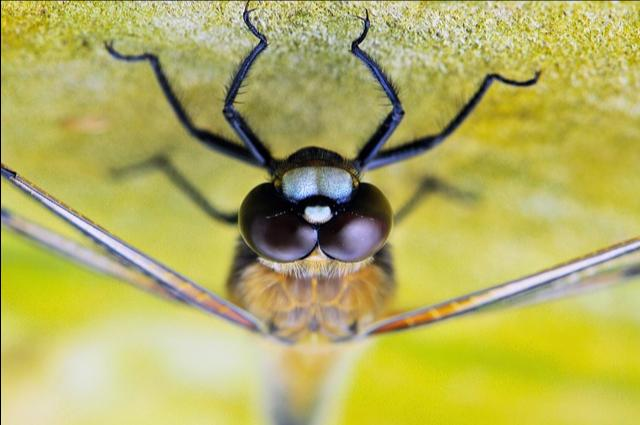Non_Gorille: (70, 34, 547, 412)
